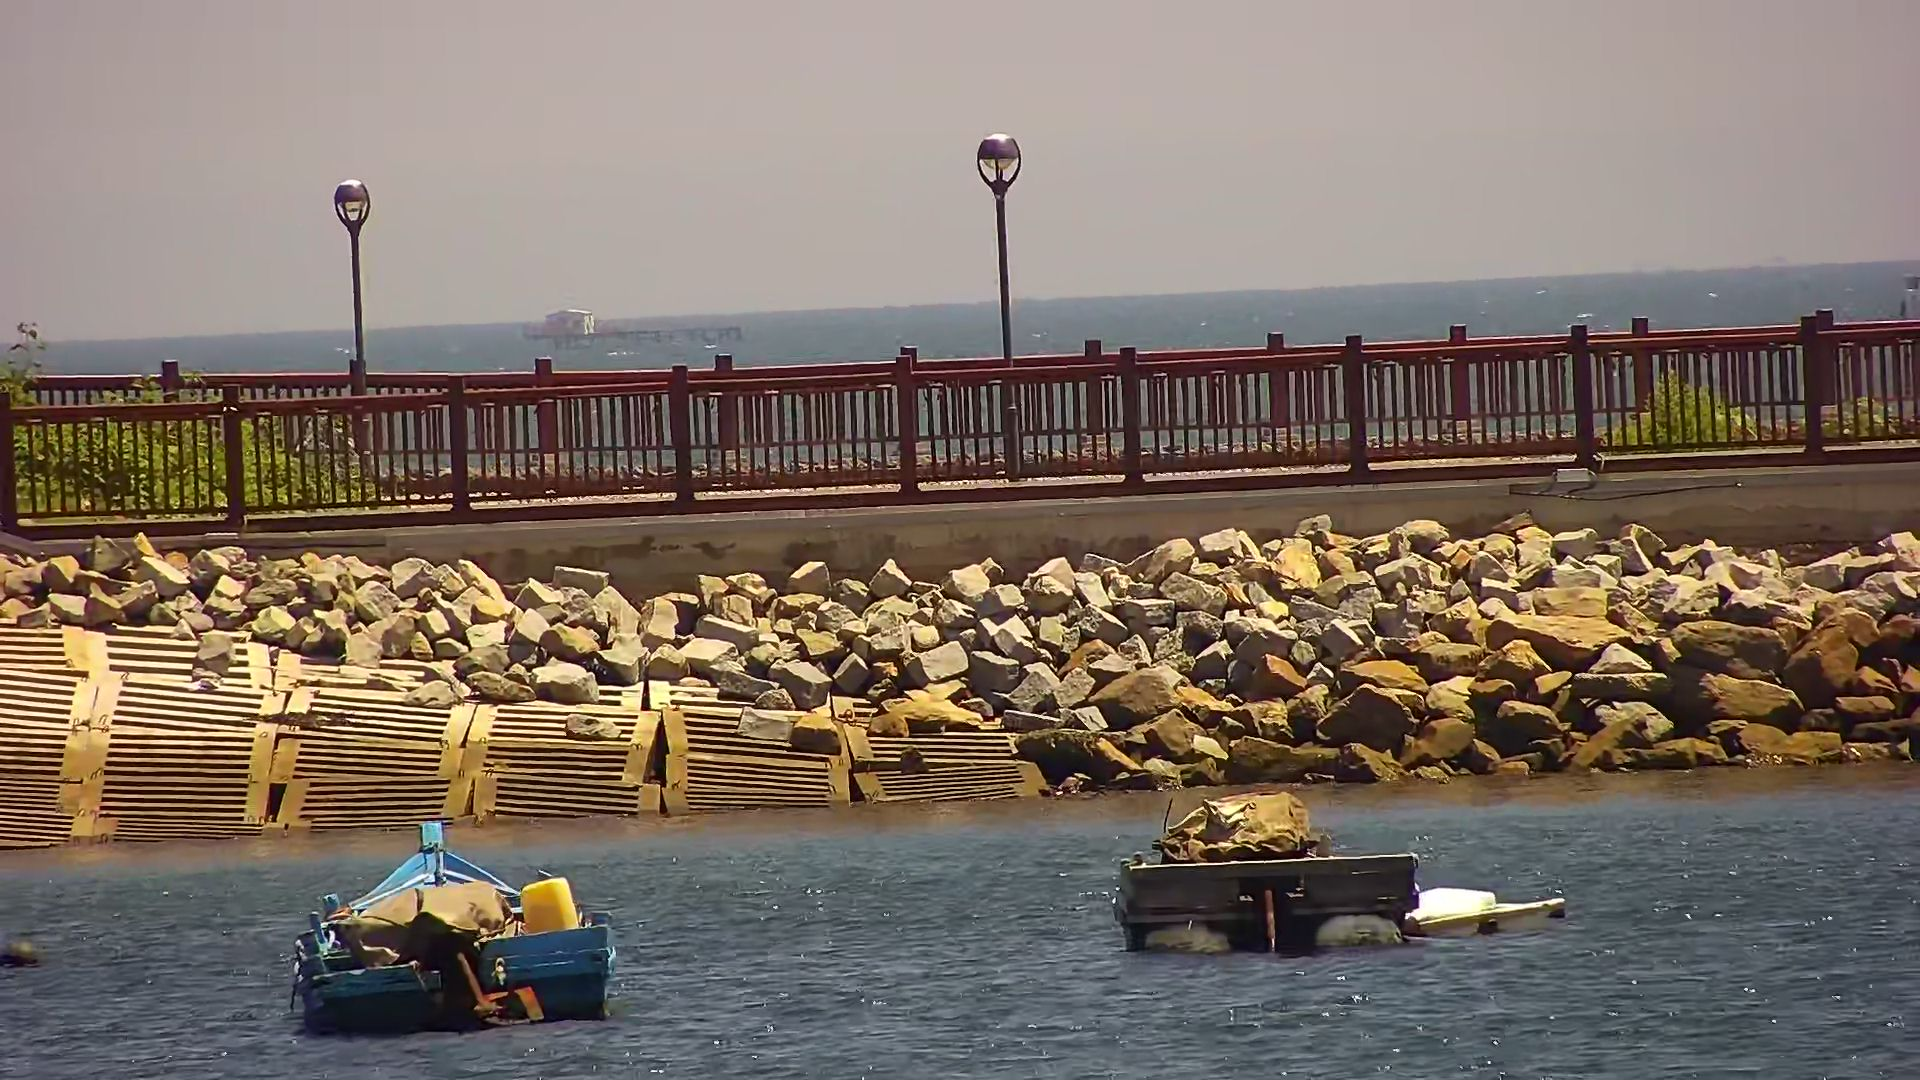ball: (1, 922, 61, 982)
boat: (1040, 787, 1585, 965), (261, 810, 630, 1038)
